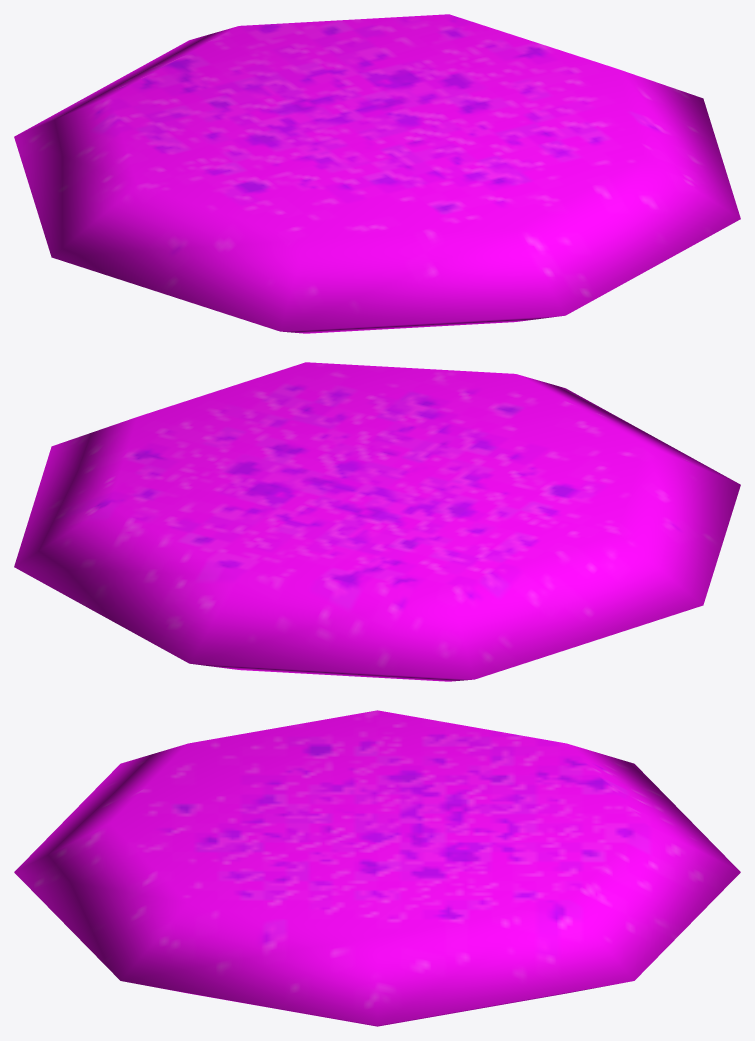
The model's file is INST_SWORDLIGHT_BRIDGEEXTEND-STEP.obj.
3 views of the same model, one above another, from view 1: azimuth 30°, elevation 25°; view 2: azimuth 150°, elevation 25°; view 3: azimuth 270°, elevation 25° (orthographic). The views are drawn at different scales.
Parts seen in each view (by area): view 1: Step; view 2: Step; view 3: Step.
Boxes of the visible parts, x1,y1,x2,y2 form: Step: [14, 14, 740, 333]; Step: [14, 362, 740, 681]; Step: [14, 710, 740, 1026].
Bounding box in the file's own units: 165 × 22.58 × 165.
